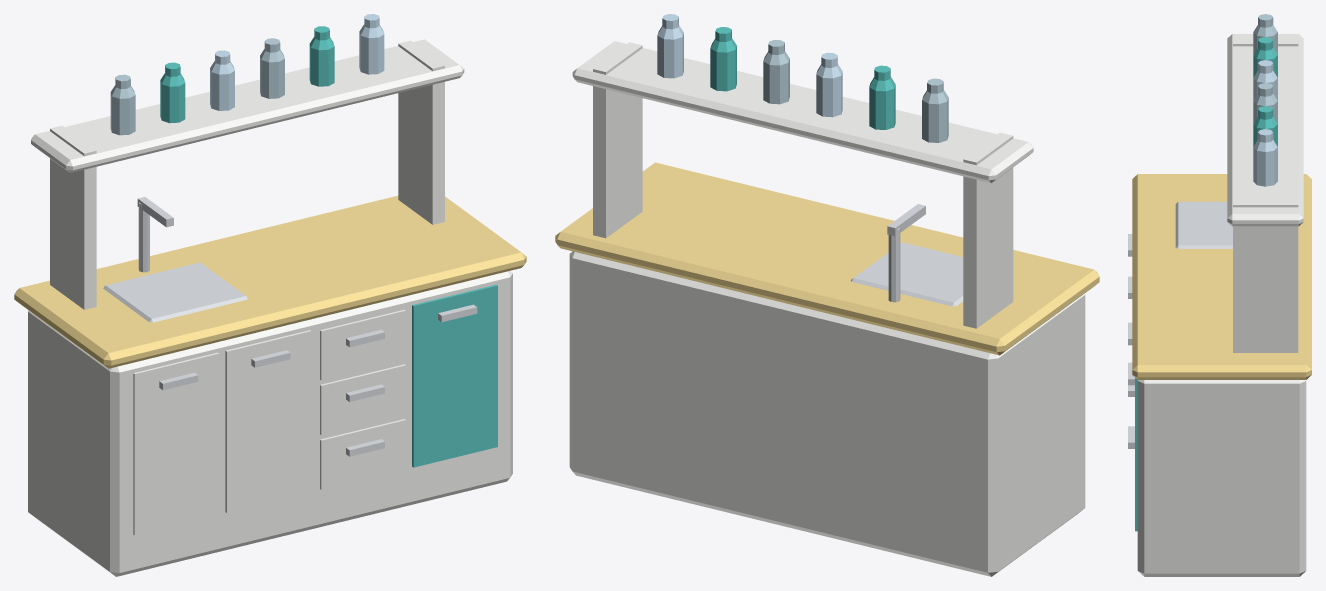
File: ct-room-counter.glb
3 renders of one model, left to right at view 1: azimuth 30°, elevation 25°; view 2: azimuth 150°, elevation 25°; view 3: azimuth 270°, elevation 25°, orthographic. The views are drawn at different scales.
Visible parts, largest first — view 1: prep-counter; view 2: prep-counter; view 3: prep-counter.
Boxes of the visible parts, left/top/right/bottom form: prep-counter: left=14, top=14, right=526, bottom=576; prep-counter: left=555, top=14, right=1099, bottom=576; prep-counter: left=1128, top=14, right=1311, bottom=576.
Bounding box in the file's own units: 1.7 × 1.67 × 0.675.
